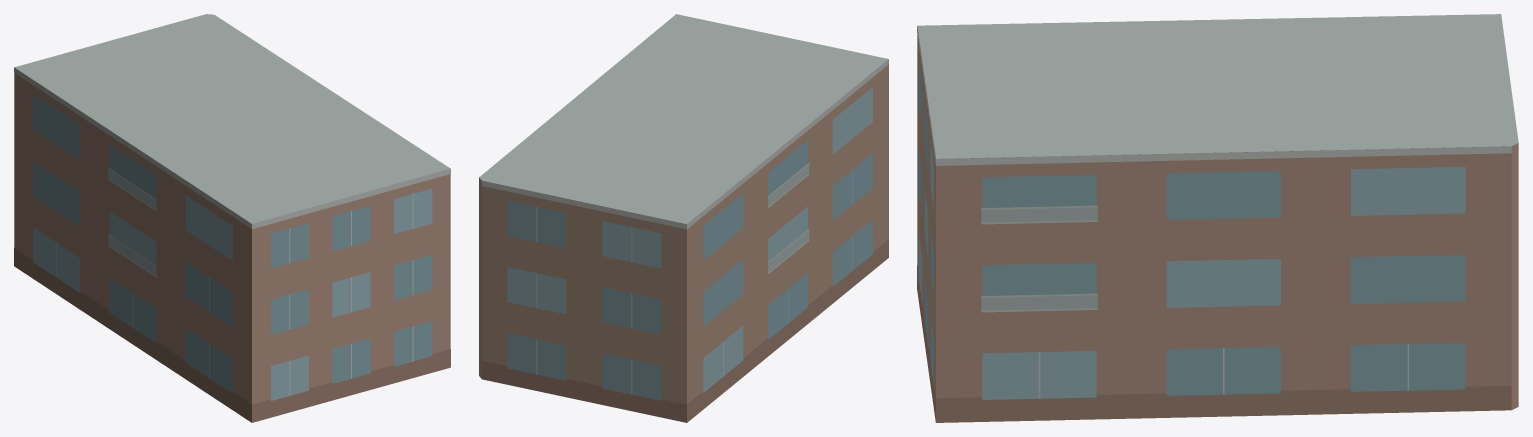
File: survey-upis-32758954.glb
3 views of the same model, side by side, from view 1: azimuth 30°, elevation 25°; view 2: azimuth 150°, elevation 25°; view 3: azimuth 270°, elevation 25° (orthographic). The views are drawn at different scales.
Visible parts, largest first — view 1: survey-upis-32758954.tmp; view 2: survey-upis-32758954.tmp; view 3: survey-upis-32758954.tmp.
Boxes of the visible parts, x1,y1,x2,y2 form: survey-upis-32758954.tmp: (14, 14, 450, 422); survey-upis-32758954.tmp: (479, 14, 888, 422); survey-upis-32758954.tmp: (917, 14, 1518, 422).
Bounding box in the file's own units: 10.78 × 9.15 × 18.9.
